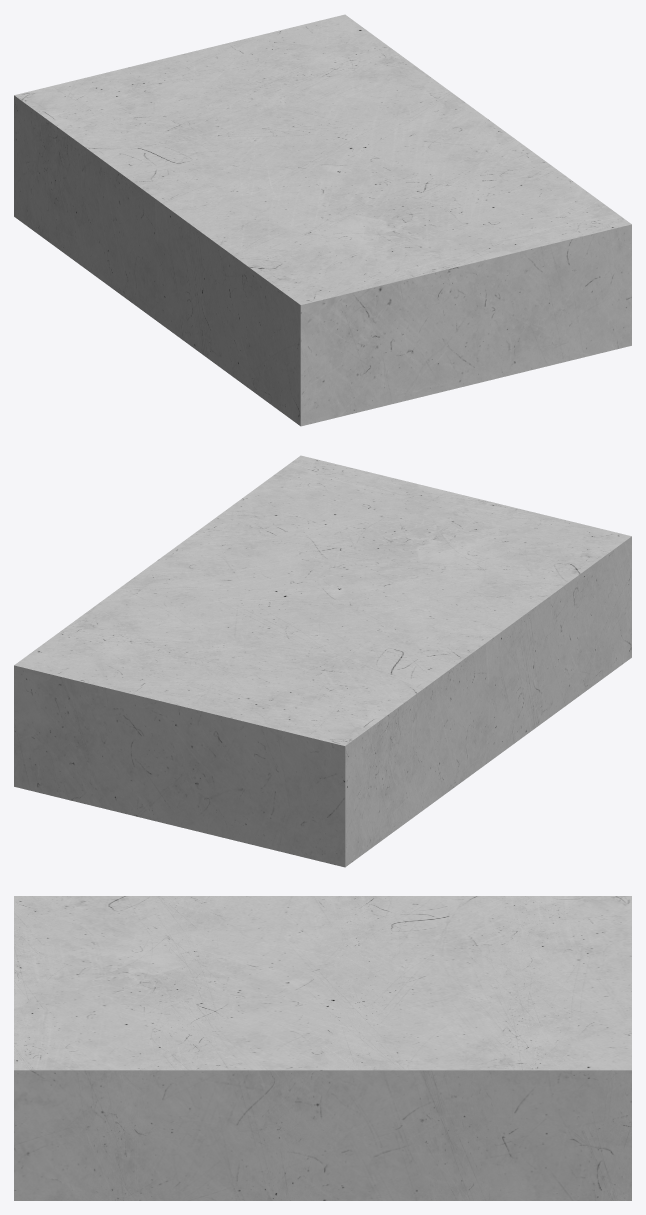
Rendered from 4gallery.glb.
3 renders of one model, top to bottom at view 1: azimuth 30°, elevation 25°; view 2: azimuth 150°, elevation 25°; view 3: azimuth 270°, elevation 25°, orthographic. The views are drawn at different scales.
Visible parts, largest first — view 1: Cube; view 2: Cube; view 3: Cube.
Boxes of the visible parts, x1,y1,x2,y2 form: Cube: (14, 14, 631, 426); Cube: (14, 455, 631, 867); Cube: (14, 896, 631, 1200).
Bounding box in the file's own units: 10 × 3.5 × 15.
2 materials, 2 textured.
